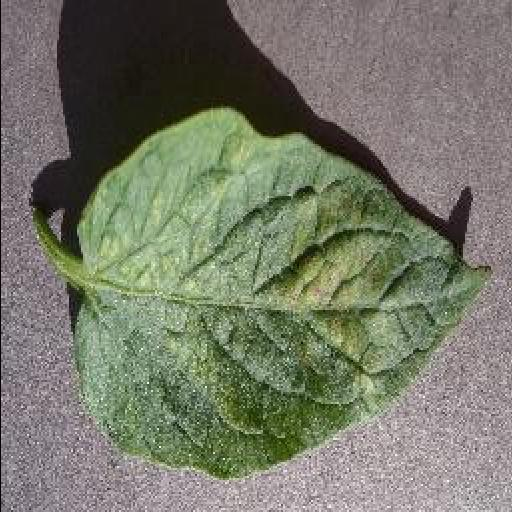disease_tomato: (72, 104, 492, 478)
